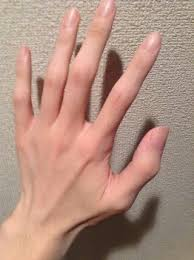hand: (4, 0, 171, 227)
